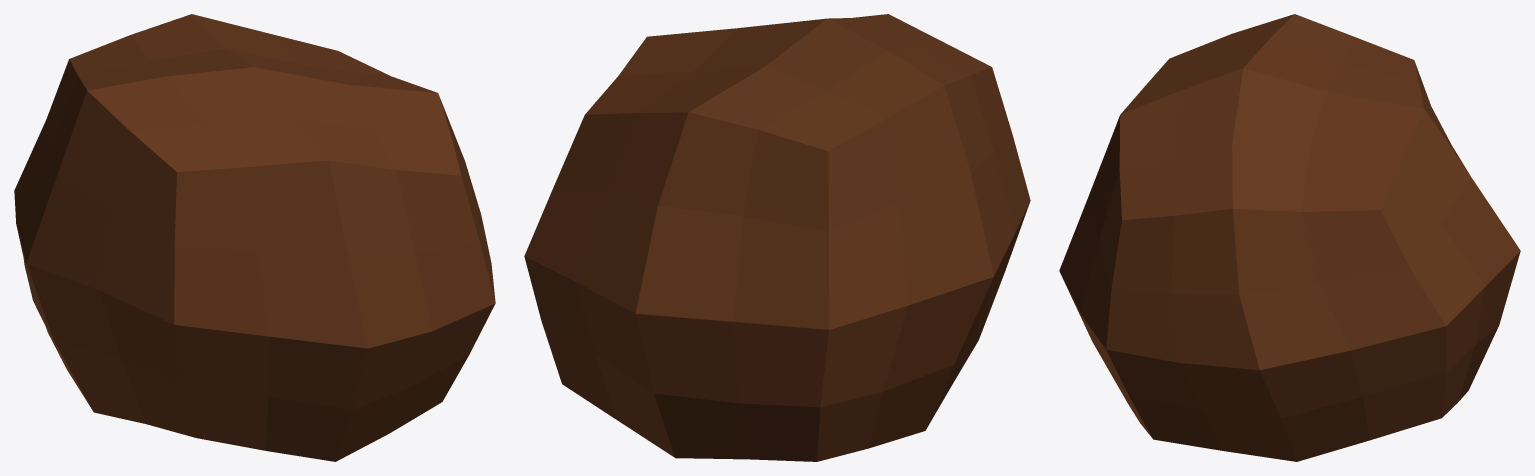
File: dirtball.fbx
3 views of the same model, side by side, from view 1: azimuth 30°, elevation 25°; view 2: azimuth 150°, elevation 25°; view 3: azimuth 270°, elevation 25° (orthographic). The views are drawn at different scales.
Visible parts, largest first — view 1: Cube; view 2: Cube; view 3: Cube.
Part boxes in pixels (x1,y1,x2,y2): Cube: (14,14,495,461); Cube: (524,14,1030,461); Cube: (1059,14,1520,461).
Size of the model in its own units: 362 by 301 by 364.
